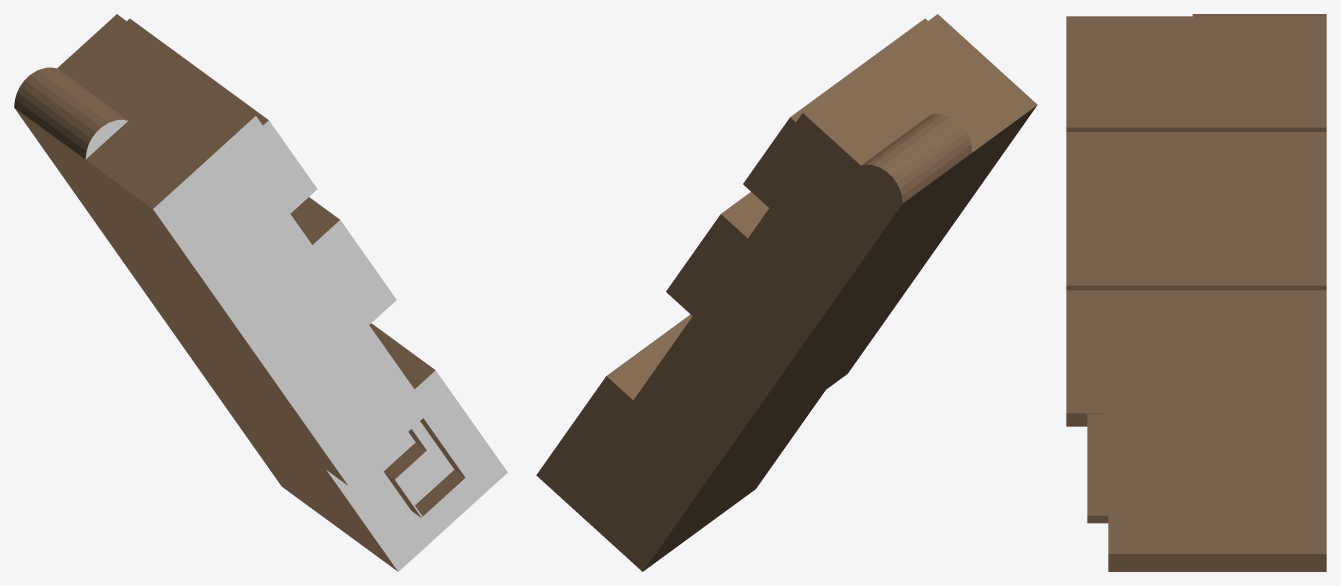
3 renders of one model, left to right at view 1: azimuth 30°, elevation 25°; view 2: azimuth 150°, elevation 25°; view 3: azimuth 270°, elevation 25°, orthographic. The views are drawn at different scales.
Visible parts, largest first — view 1: City_1202554; view 2: City_1202554; view 3: City_1202554.
Part boxes in pixels (bbox=[...]): City_1202554: bbox=[14, 14, 507, 571]; City_1202554: bbox=[536, 14, 1037, 571]; City_1202554: bbox=[1066, 14, 1326, 571].
Size of the model in its own units: 2610 by 3391 by 1666.
